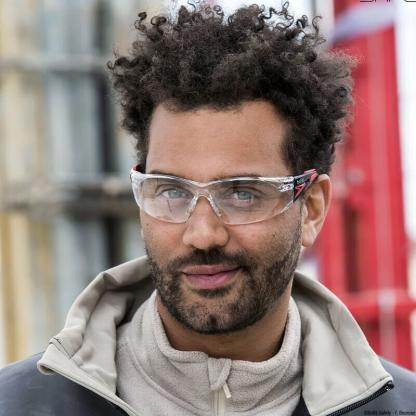oculos: (131, 166, 301, 224)
